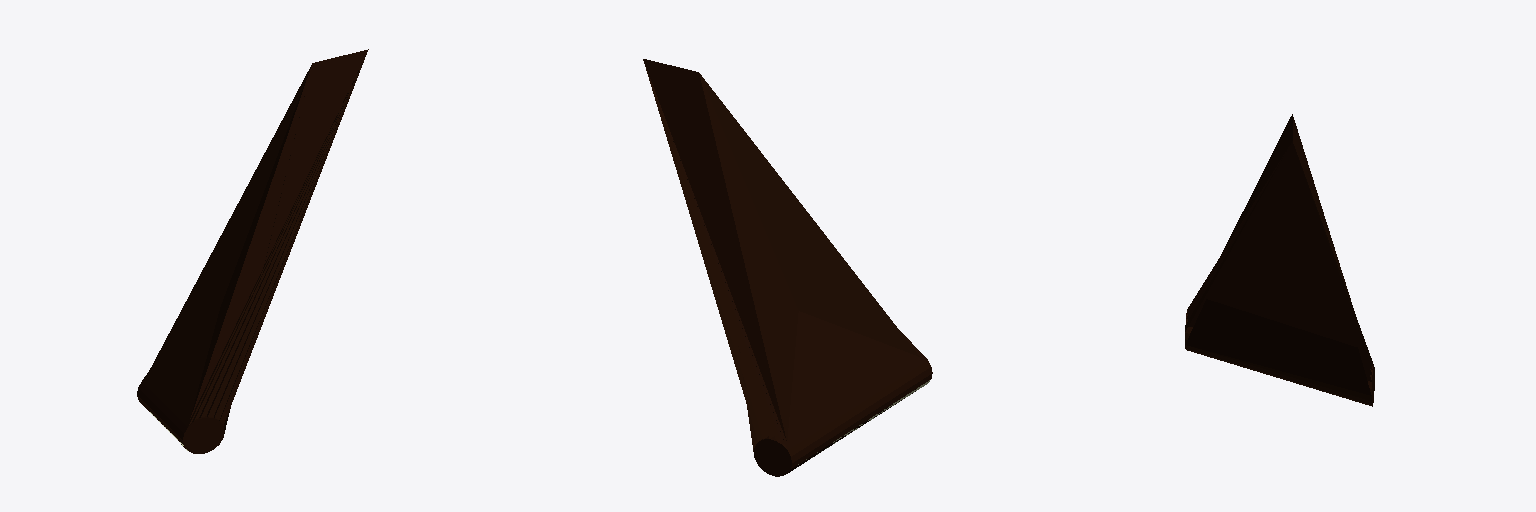
The model's file is Fireplace.obj.
3 views of the same model, side by side, from view 1: azimuth 30°, elevation 25°; view 2: azimuth 150°, elevation 25°; view 3: azimuth 270°, elevation 25° (orthographic).
Parts seen in each view (by area): view 1: Cylinder007, Cylinder011; view 2: Cylinder007, Cylinder011; view 3: Cylinder007, Cylinder011.
Part boxes in pixels (bbox=[...]): Cylinder007: bbox=[139, 49, 368, 447]; Cylinder011: bbox=[137, 382, 224, 453]; Cylinder007: bbox=[643, 59, 927, 472]; Cylinder011: bbox=[754, 361, 932, 476]; Cylinder007: bbox=[1185, 114, 1374, 395]; Cylinder011: bbox=[1185, 310, 1374, 406].
Bounding box in the file's own units: 4357 × 6061 × 3013.